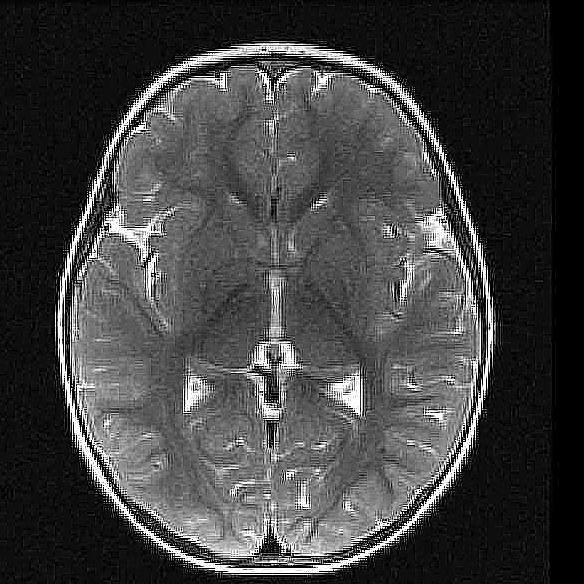Normal_Brain: (1, 1, 584, 584)
